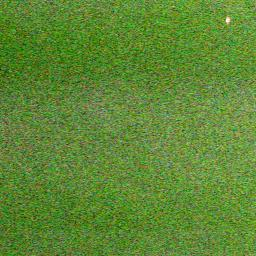Ship: (222, 10, 231, 26)
